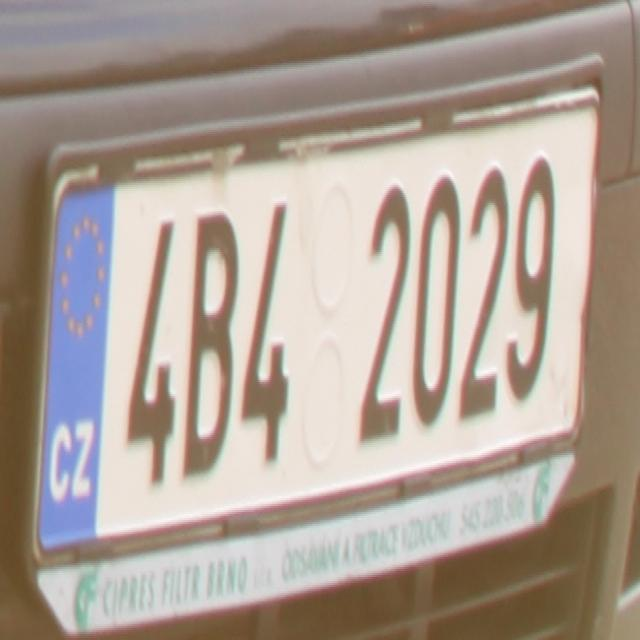0: (411, 176, 461, 426)
2: (359, 183, 412, 441), (463, 166, 508, 416)
4: (239, 201, 292, 463), (124, 215, 176, 478)
9: (506, 156, 554, 406)
B: (184, 212, 236, 474)
